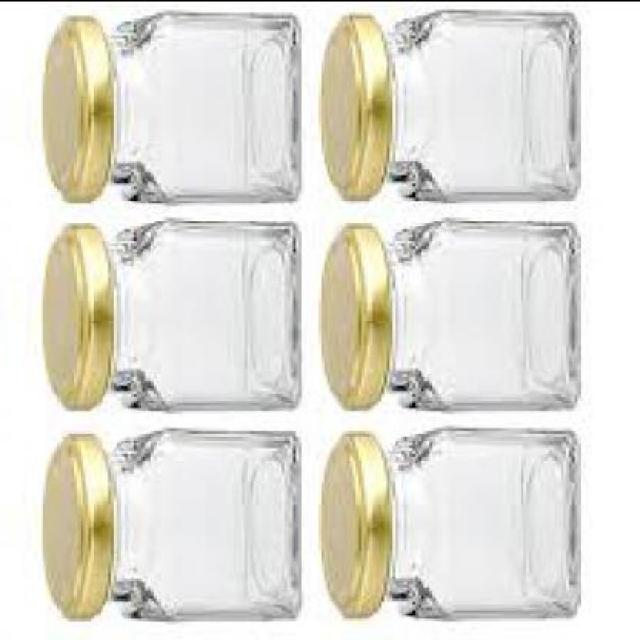GLASS: (380, 218, 578, 412), (380, 13, 574, 205), (106, 13, 296, 205), (380, 432, 574, 620), (106, 429, 296, 620), (109, 222, 296, 412)
METAL: (318, 20, 389, 202), (40, 436, 105, 626), (43, 17, 108, 205), (319, 435, 384, 623), (43, 225, 108, 412), (322, 231, 389, 412)
